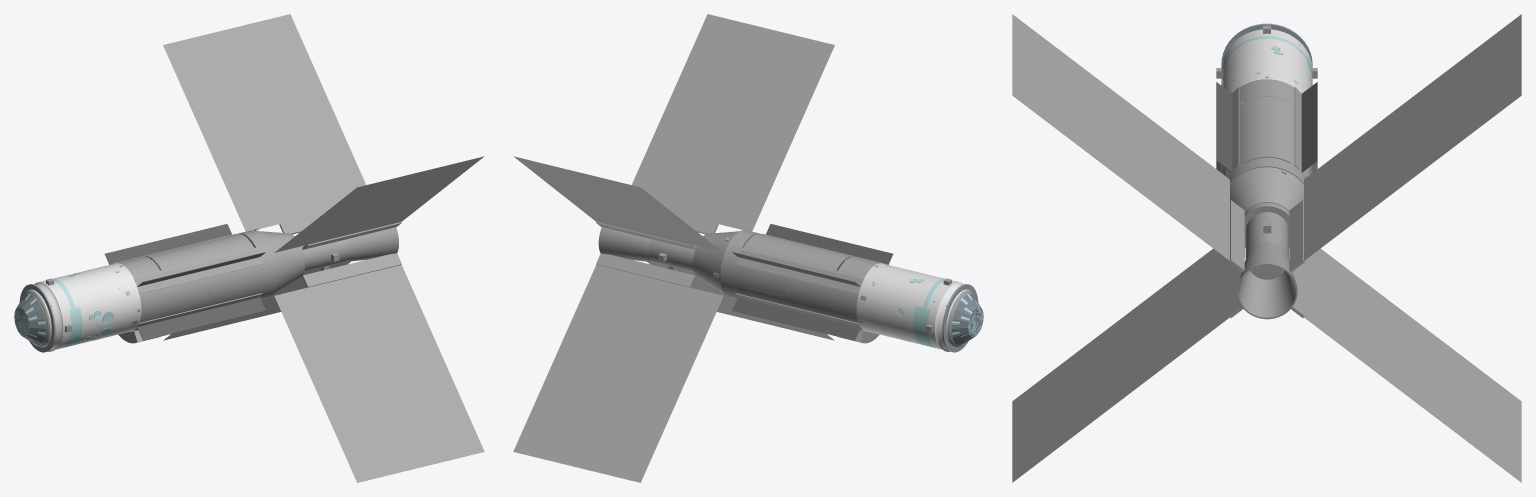
File: wayfarer_full_radiator_states_88ce19fc_metric_hard_closed.glb
3 views of the same model, side by side, from view 1: azimuth 30°, elevation 25°; view 2: azimuth 150°, elevation 25°; view 3: azimuth 270°, elevation 25° (orthographic). The views are drawn at different scales.
Visible parts, largest first — view 1: dry:hotfin_220:folded_envelope, dry:hotfin_40:folded_envelope, dry:hotfin_140:folded_envelope, dry:armor, dry:skin_midship, dry:strake_220:extended_pleat_00, dry:strake_140:stowed_stack, dry:strake_40:extended_pleat_00, dry:thrust_cone, dry:skin_service, dry:door_port, dry:hotfin_root_220:root (+7 smaller); view 2: dry:hotfin_320:folded_envelope, dry:hotfin_140:folded_envelope, dry:hotfin_40:folded_envelope, dry:armor, dry:skin_midship, dry:strake_320:extended_pleat_00, dry:strake_40:stowed_stack, dry:strake_140:extended_pleat_00, dry:skin_service, dry:thrust_cone, dry:door_starboard, dry:hotfin_root_320:root (+7 smaller); view 3: dry:hotfin_40:folded_envelope, dry:hotfin_140:folded_envelope, dry:hotfin_220:folded_envelope, dry:hotfin_320:folded_envelope, dry:armor, dry:nozzle, dry:thrust_cone, dry:reactor, dry:door_port, dry:door_starboard, dry:strake_40:extended_pleat_00, dry:strake_140:extended_pleat_00 (+9 smaller).
Part boxes in pixels (x1,y1,x2,y2): dry:hotfin_220:folded_envelope: [274, 264, 484, 482]; dry:hotfin_40:folded_envelope: [163, 14, 365, 231]; dry:hotfin_140:folded_envelope: [274, 156, 484, 252]; dry:armor: [23, 263, 141, 350]; dry:skin_midship: [160, 247, 263, 316]; dry:strake_220:extended_pleat_00: [137, 297, 265, 340]; dry:strake_140:stowed_stack: [134, 249, 262, 293]; dry:strake_40:extended_pleat_00: [104, 224, 231, 264]; dry:thrust_cone: [258, 231, 304, 293]; dry:skin_service: [117, 256, 168, 330]; dry:door_port: [152, 236, 253, 270]; dry:hotfin_root_220:root: [302, 253, 401, 287]; dry:hotfin_320:folded_envelope: [513, 264, 723, 482]; dry:hotfin_140:folded_envelope: [632, 14, 834, 231]; dry:hotfin_40:folded_envelope: [513, 156, 723, 252]; dry:armor: [856, 263, 974, 350]; dry:skin_midship: [734, 247, 837, 316]; dry:strake_320:extended_pleat_00: [732, 297, 860, 340]; dry:strake_40:stowed_stack: [735, 249, 863, 293]; dry:strake_140:extended_pleat_00: [766, 224, 893, 264]; dry:skin_service: [829, 256, 880, 330]; dry:thrust_cone: [693, 231, 739, 293]; dry:door_starboard: [744, 236, 845, 270]; dry:hotfin_root_320:root: [596, 253, 695, 287]; dry:hotfin_40:folded_envelope: [1304, 14, 1521, 260]; dry:hotfin_140:folded_envelope: [1012, 14, 1229, 260]; dry:hotfin_220:folded_envelope: [1012, 248, 1229, 482]; dry:hotfin_320:folded_envelope: [1304, 248, 1521, 482]; dry:armor: [1221, 29, 1312, 93]; dry:nozzle: [1237, 242, 1297, 319]; dry:thrust_cone: [1230, 167, 1303, 247]; dry:reactor: [1245, 212, 1288, 279]; dry:door_port: [1242, 97, 1266, 163]; dry:door_starboard: [1267, 97, 1291, 163]; dry:strake_40:extended_pleat_00: [1301, 82, 1317, 172]; dry:strake_140:extended_pleat_00: [1216, 82, 1232, 172].
Bounding box in the file's own units: 54.5 × 42.11 × 50.18.
